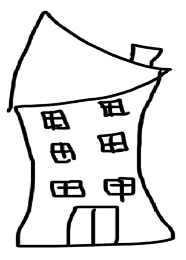big_house: (1, 1, 186, 260)
chimney: (127, 38, 166, 74)
closed_window: (35, 104, 77, 133), (93, 129, 130, 160), (49, 176, 90, 203), (97, 96, 133, 126), (101, 174, 139, 202), (47, 138, 79, 164)
door: (63, 201, 121, 250)
roof: (5, 9, 174, 118)
wall: (9, 81, 176, 253)
